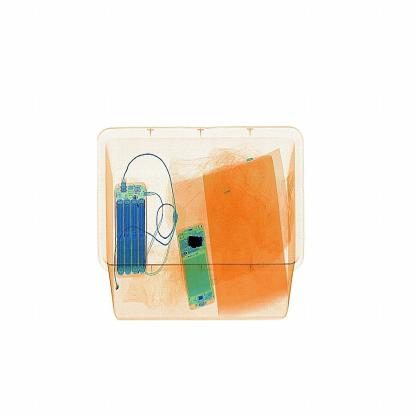scissors: (184, 222, 214, 262)
